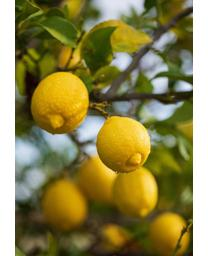lemon: (30, 71, 88, 135), (96, 115, 151, 173), (112, 165, 158, 218)
